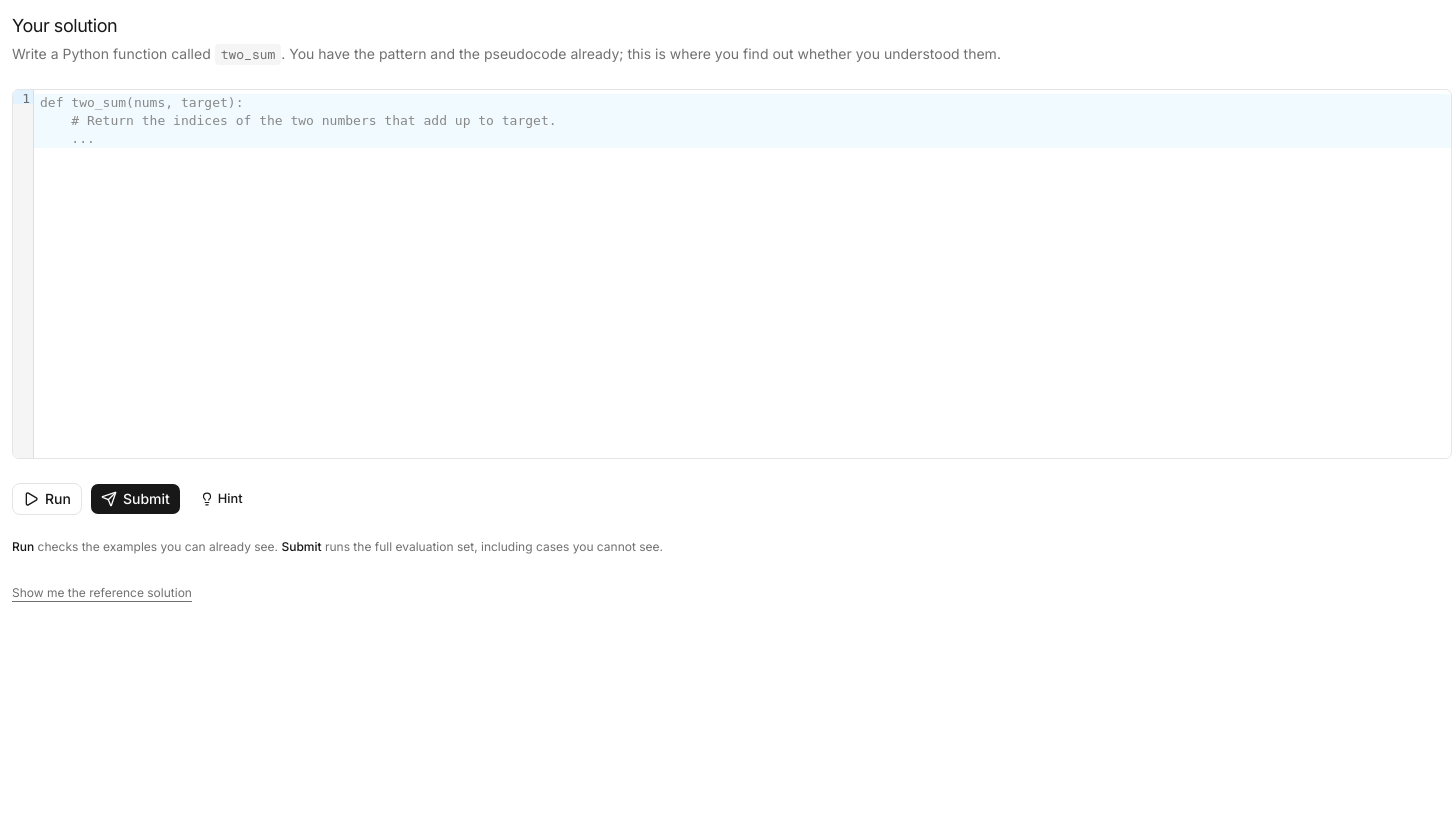
Test: Run › reports only a count for hidden cases, never a label or its input
Click the button "Run": (47, 499) [12,483,82,515]
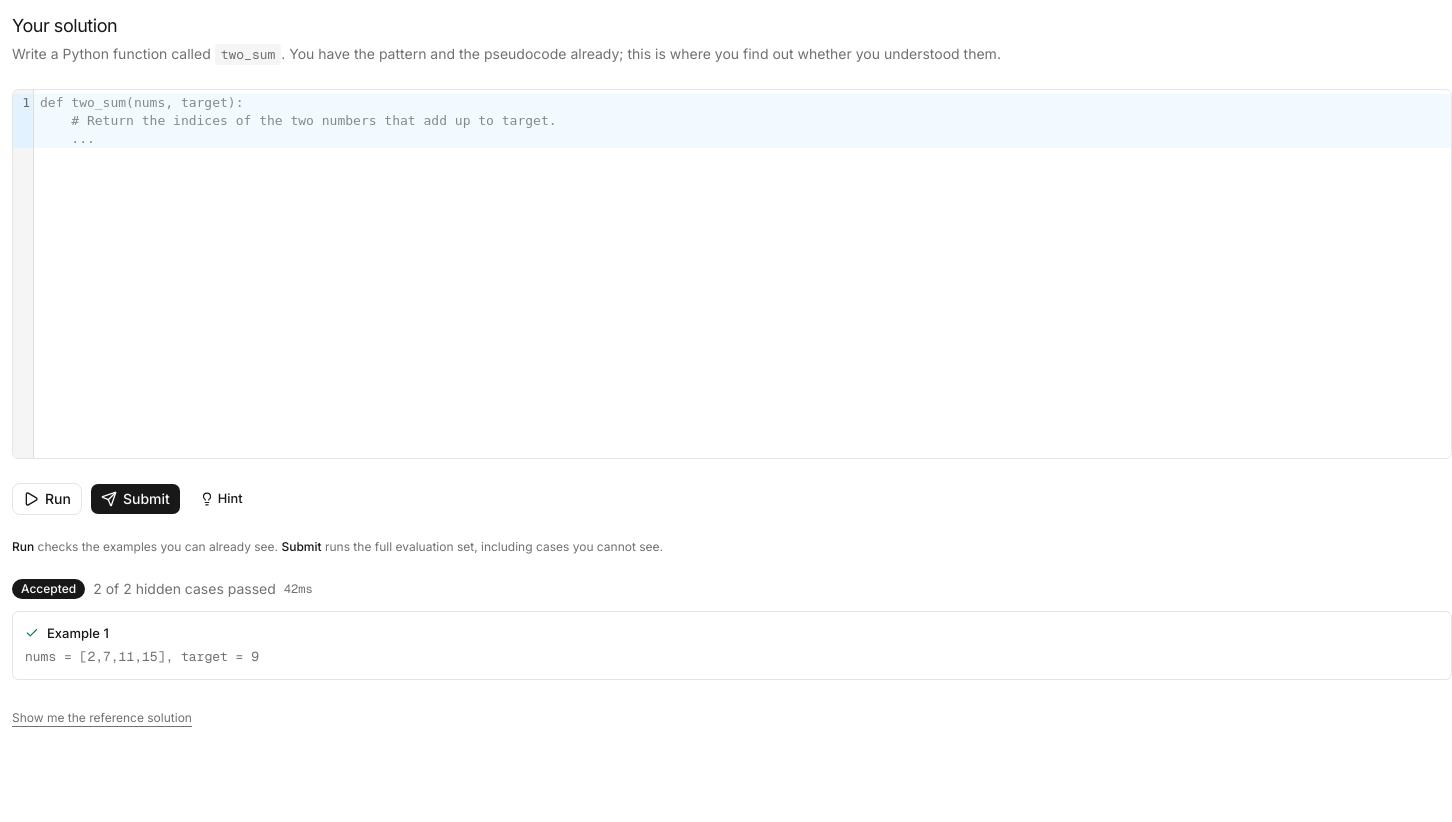
Result: the text "2 of 2 hidden cases passed" is shown at [93,579,276,599]
